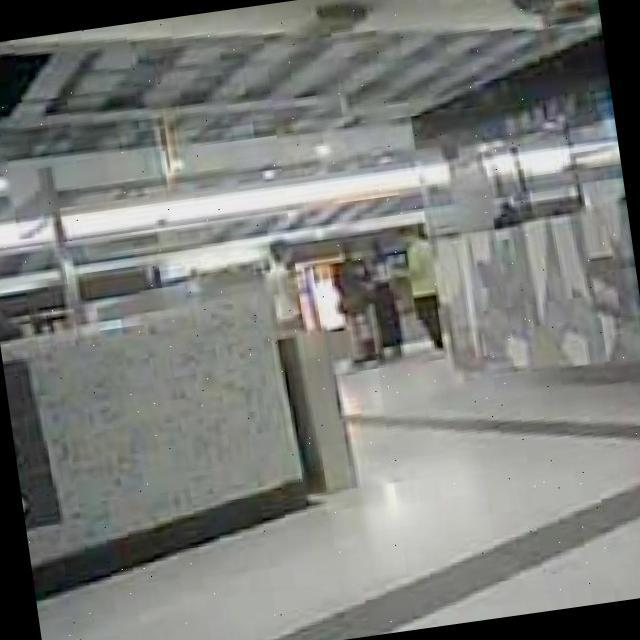person: (394, 226, 448, 357), (328, 242, 381, 364), (360, 228, 406, 360), (265, 240, 310, 326)
